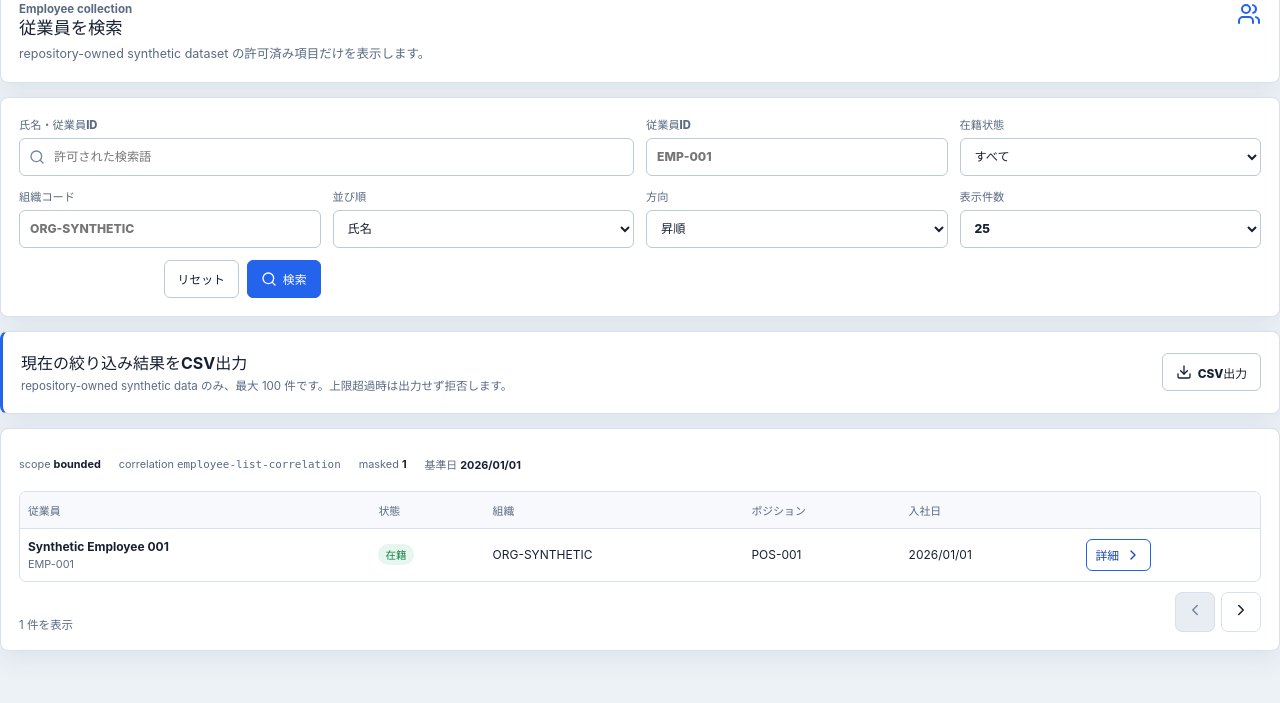
Test: employee list screen › loads the API, synchronizes filters and paging, and opens detail
Check: the text "Synthetic Employee 001" is shown, box [28, 539, 169, 554]
Check: the text "employee-list-correlation" is shown, box [177, 458, 341, 471]
Type "Synthetic" into the field labelled "氏名・従業員ID" at (326, 157), box [19, 138, 634, 176]
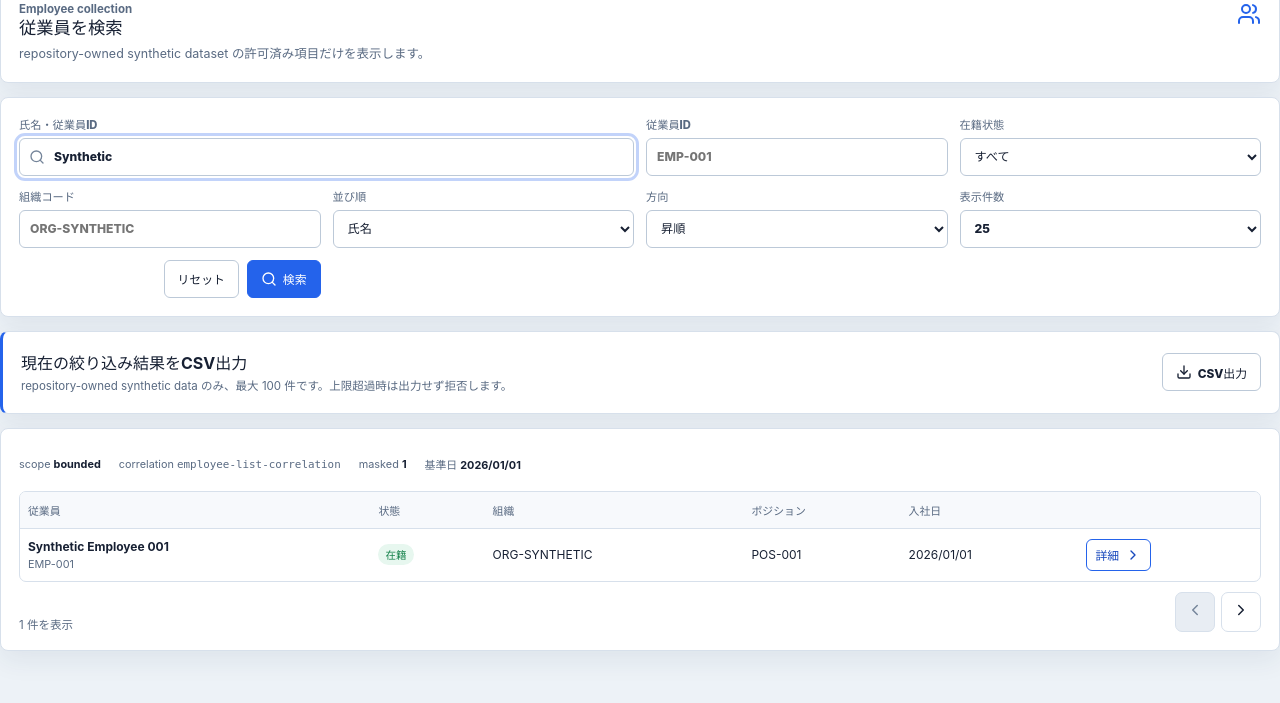
Click the button "検索" at (284, 279), box [247, 260, 320, 298]
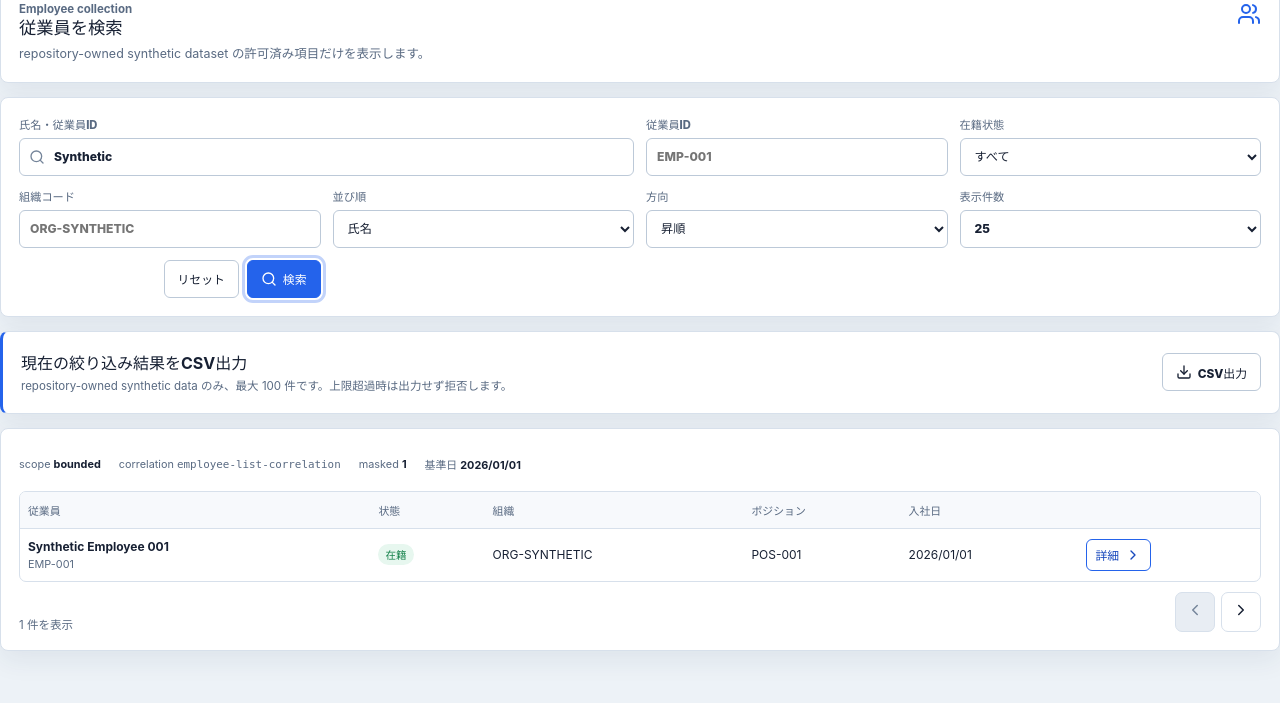
Click the button with aria-label "Synthetic Employee 001の詳細を開く" at (1118, 555), box [1086, 539, 1151, 571]
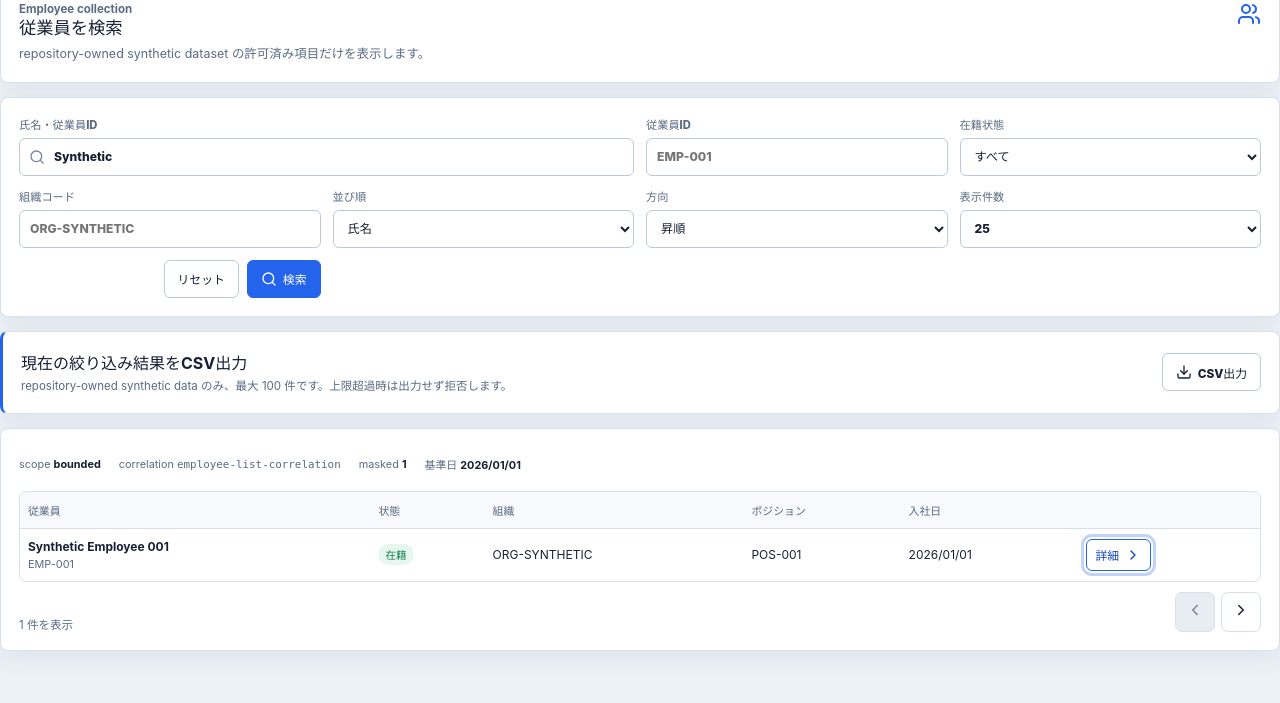
Click the button named "次のページへ" at (1241, 612), box [1221, 592, 1261, 632]
(page scrolled)
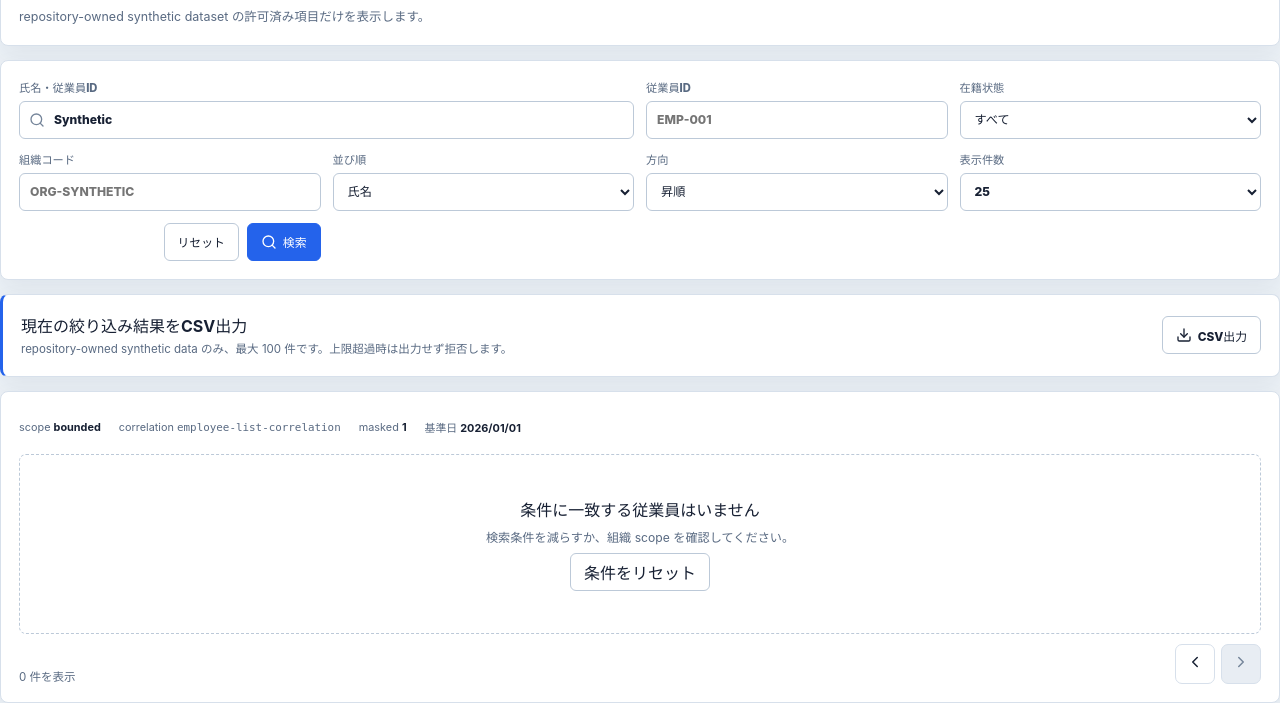
Check: the text "条件に一致する従業員はいません" is shown, box [520, 497, 760, 521]
Check: the button named "前のページへ" is enabled
Click the button named "前のページへ" at (1195, 664), box [1175, 644, 1215, 684]
(page scrolled)
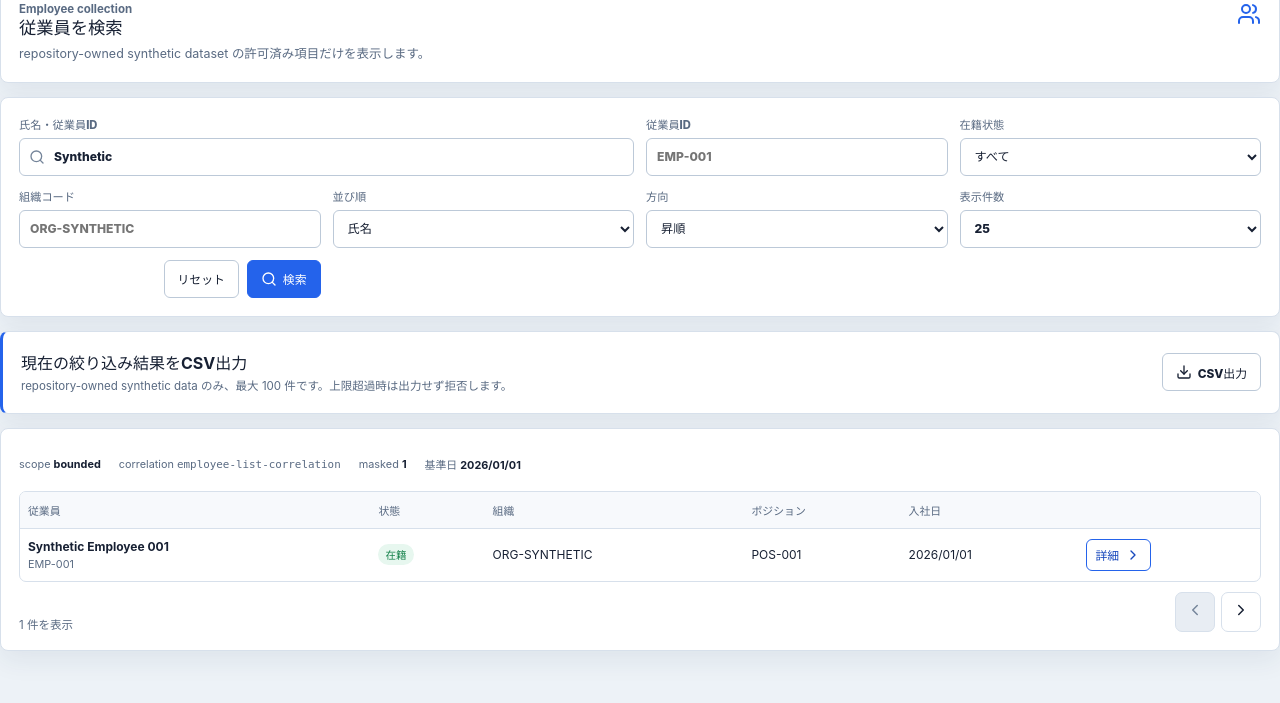
Check: the text "Synthetic Employee 001" is shown, box [28, 539, 169, 554]
